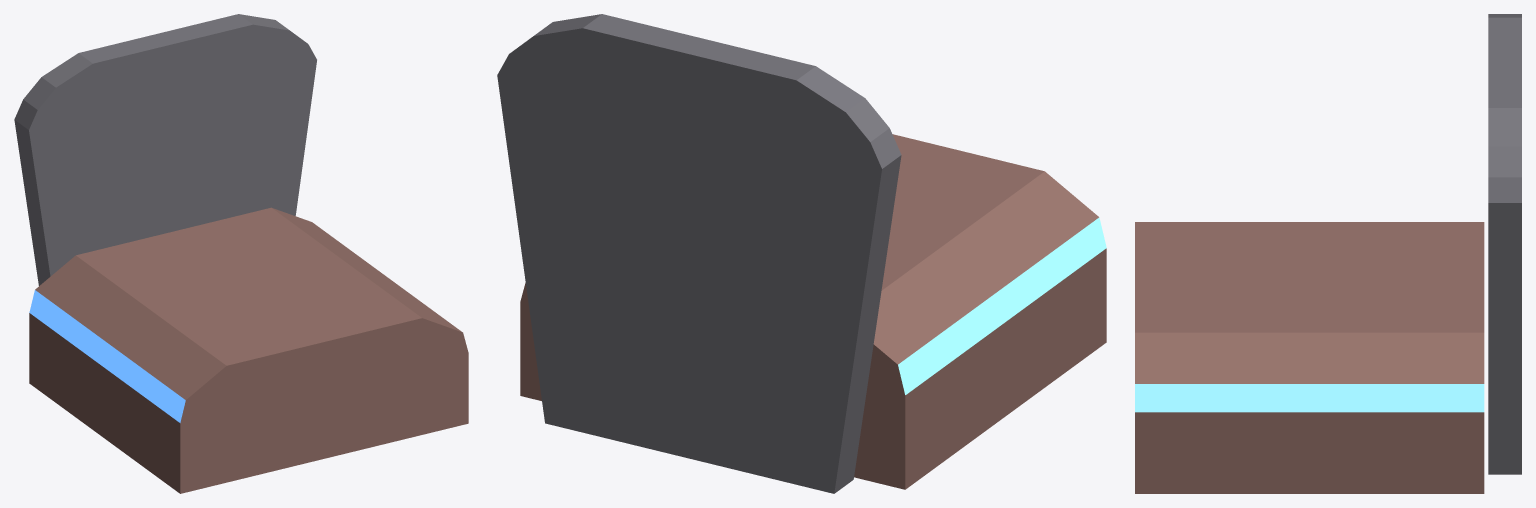
File: tombstone.glb
The picture shows the model from 3 angles, left to right: view 1: azimuth 30°, elevation 25°; view 2: azimuth 150°, elevation 25°; view 3: azimuth 270°, elevation 25°; orthographic projection. The views are drawn at different scales.
Visible parts, largest first — view 1: Cube.001; view 2: Cube.001; view 3: Cube.001.
Part boxes in pixels (x1=…): Cube.001: x1=14, y1=14, x2=468, y2=493; Cube.001: x1=497, y1=14, x2=1106, y2=493; Cube.001: x1=1135, y1=14, x2=1521, y2=493.
Bounding box in the file's own units: 0.5 × 0.5 × 0.5.
